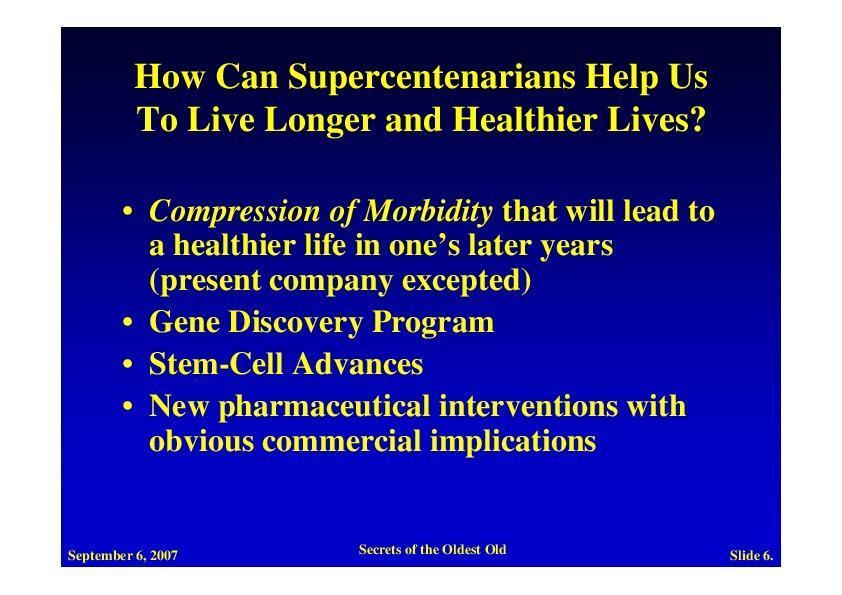paragraph: (111, 182, 745, 484)
subtitle: (63, 525, 783, 570)
title: (133, 53, 718, 141)
